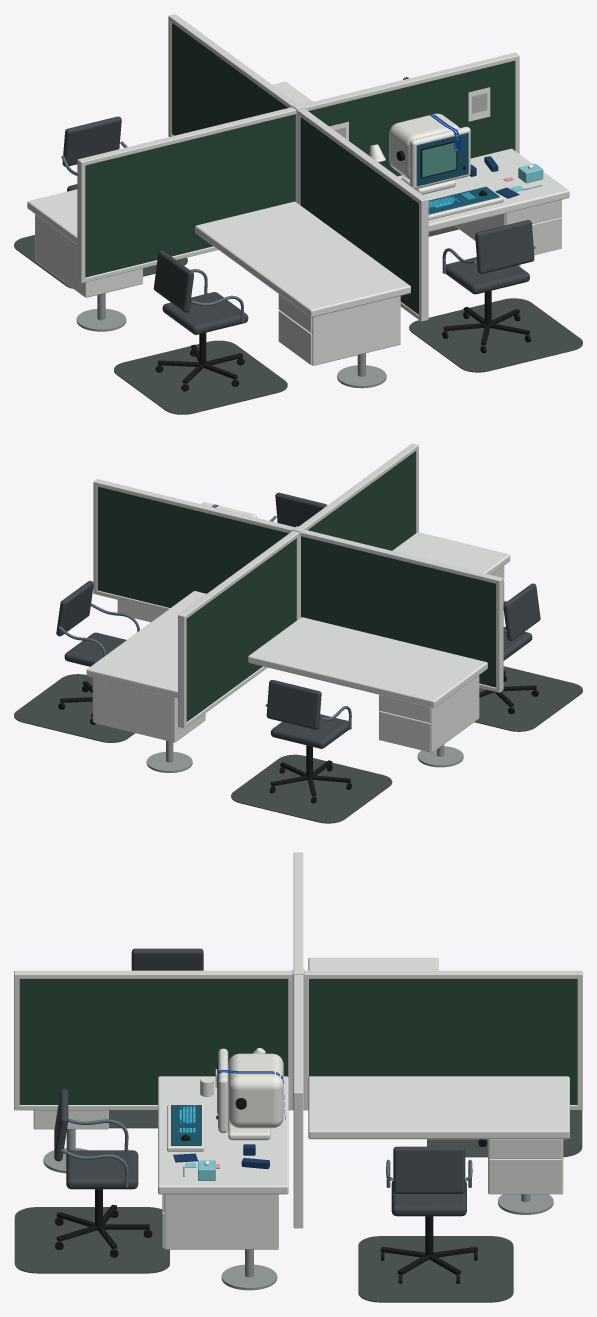
Rendered from severance-desk.glb.
The picture shows the model from 3 angles, top to bottom: view 1: azimuth 30°, elevation 25°; view 2: azimuth 150°, elevation 25°; view 3: azimuth 270°, elevation 25°; orthographic projection. The views are drawn at different scales.
Visible parts, largest first — view 1: Divider_X_Felt, Desk_3_Top, Divider_YNeg_Felt, ChairMat_0, ChairMat_3, Divider_YPos_Felt, Divider_X_Trim, Desk_0_Top, Desk_3_Pedestal, Divider_YNeg_Trim, Desk_2_Pedestal, Chair_0_Back (+19 smaller); view 2: Divider_X_Felt, Desk_2_Top, Divider_YPos_Felt, ChairMat_2, Divider_YNeg_Felt, Divider_X_Trim, Desk_1_Top, Desk_1_Pedestal, ChairMat_3, ChairMat_1, Divider_YPos_Trim, Desk_3_Top (+13 smaller); view 3: Divider_YNeg_Felt, Divider_YPos_Felt, Desk_1_Top, ChairMat_1, Desk_0_Top, ChairMat_0, Desk_0_Pedestal, Divider_YNeg_Trim, Desk_1_Drawers, Divider_X_Trim, CRT_Shell, Divider_YPos_Trim (+17 smaller).
Boxes of the visible parts, left/top/right/bottom form: Divider_X_Felt: left=85, top=61, right=514, bottom=277; Desk_3_Top: left=195, top=201, right=410, bottom=317; Divider_YNeg_Felt: left=300, top=117, right=418, bottom=314; ChairMat_0: left=409, top=298, right=582, bottom=372; ChairMat_3: left=114, top=340, right=287, bottom=414; Divider_YPos_Felt: left=171, top=22, right=288, bottom=135; Divider_X_Trim: left=77, top=52, right=519, bottom=283; Desk_0_Top: left=397, top=148, right=569, bottom=231; Desk_3_Pedestal: left=311, top=296, right=400, bottom=365; Divider_YNeg_Trim: left=297, top=108, right=428, bottom=321; Desk_2_Pedestal: left=35, top=214, right=142, bottom=297; Chair_0_Back: left=475, top=220, right=534, bottom=273; Divider_X_Felt: left=97, top=487, right=495, bottom=687; Desk_2_Top: left=248, top=617, right=487, bottom=707; Divider_YPos_Felt: left=186, top=538, right=296, bottom=721; ChairMat_2: left=231, top=754, right=392, bottom=823; Divider_YNeg_Felt: left=308, top=451, right=415, bottom=550; Divider_X_Trim: left=93, top=479, right=503, bottom=692; Desk_1_Top: left=86, top=591, right=206, bottom=698; Desk_1_Pedestal: left=93, top=678, right=205, bottom=742; ChairMat_3: left=474, top=666, right=582, bottom=731; ChairMat_1: left=14, top=674, right=134, bottom=742; Divider_YPos_Trim: left=178, top=531, right=299, bottom=728; Desk_3_Top: left=392, top=532, right=510, bottom=574; Divider_YNeg_Felt: left=19, top=979, right=287, bottom=1104; Divider_YPos_Felt: left=309, top=979, right=577, bottom=1104; Desk_1_Top: left=308, top=1076, right=569, bottom=1139; ChairMat_1: left=358, top=1236, right=513, bottom=1302; Desk_0_Top: left=158, top=1076, right=288, bottom=1194; ChairMat_0: left=14, top=1207, right=169, bottom=1273; Desk_0_Pedestal: left=164, top=1194, right=278, bottom=1249; Divider_YNeg_Trim: left=14, top=970, right=292, bottom=1110; Desk_1_Drawers: left=489, top=1139, right=561, bottom=1194; Divider_X_Trim: left=293, top=852, right=303, bottom=1228; CRT_Shell: left=228, top=1053, right=283, bottom=1128; Divider_YPos_Trim: left=304, top=970, right=582, bottom=1110.
Size of the model in its own units: 3.48 by 1.43 by 3.48.
23 materials, 1 textured.
